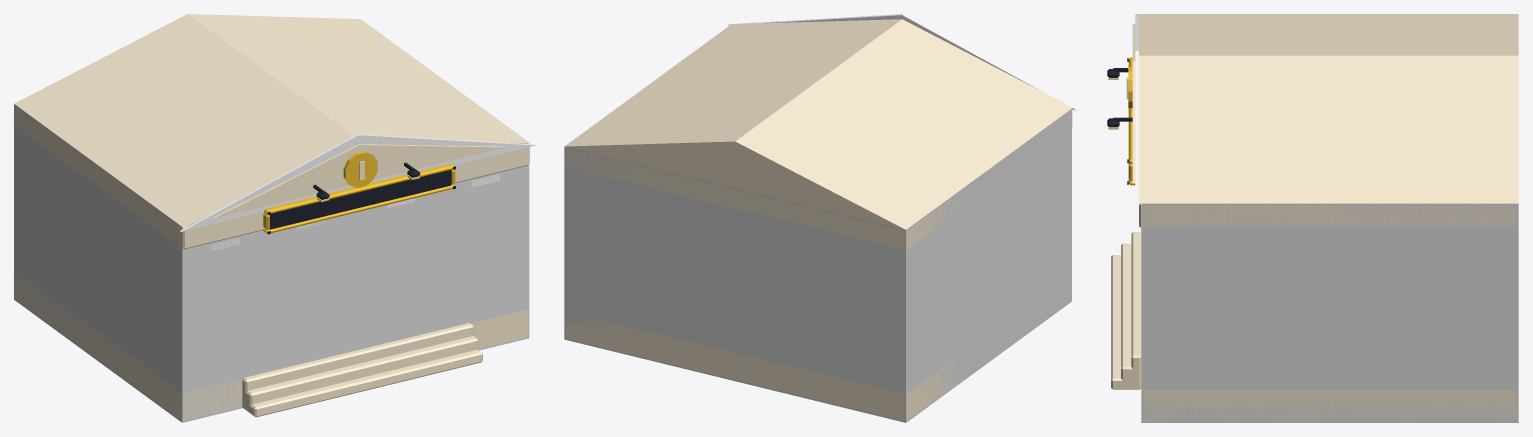
The model's file is bank.glb.
3 views of the same model, side by side, from view 1: azimuth 30°, elevation 25°; view 2: azimuth 150°, elevation 25°; view 3: azimuth 270°, elevation 25° (orthographic). The views are drawn at different scales.
Parts seen in each view (by area): view 1: bank, COL_body, sign_board, sign_frame; view 2: COL_body, bank; view 3: bank, COL_body, sign_frame.
Boxes of the visible parts, <box> form: bank: <box>14,14,535,420</box>; COL_body: <box>14,104,529,422</box>; sign_board: <box>269,170,451,229</box>; sign_frame: <box>263,162,455,234</box>; COL_body: <box>564,109,1071,422</box>; bank: <box>564,14,1078,420</box>; bank: <box>1111,14,1518,420</box>; COL_body: <box>1141,203,1518,422</box>; sign_frame: <box>1107,57,1135,185</box>.
Size of the model in its own units: 9 by 6 by 8.07.
